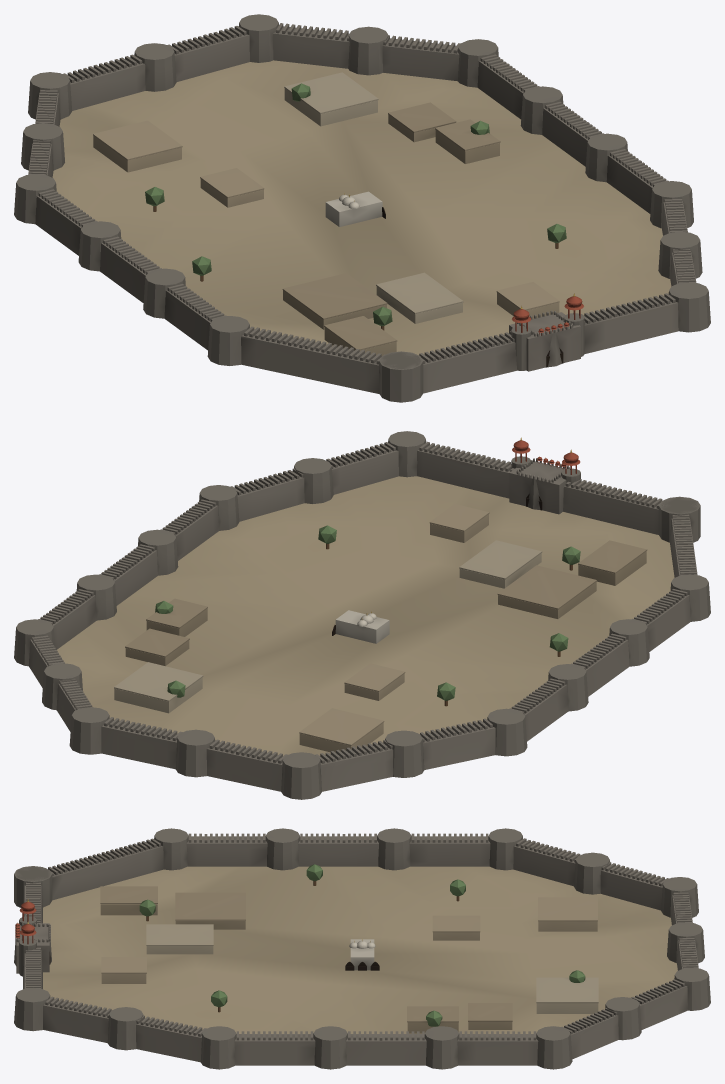
Rendered from salimgarh.glb.
The picture shows the model from 3 angles, top to bottom: view 1: azimuth 30°, elevation 25°; view 2: azimuth 150°, elevation 25°; view 3: azimuth 270°, elevation 25°; orthographic projection. The views are drawn at different scales.
Parts seen in each view (by area): view 1: p0_walls, p1_buildings, p2_trees; view 2: p0_walls, p1_buildings, p2_trees; view 3: p0_walls, p1_buildings, p2_trees.
Boxes of the visible parts, x1,y1,x2,y2 form: p0_walls: (14,14,710,402); p1_buildings: (93,72,584,371); p2_trees: (145,83,566,330); p0_walls: (14,431,710,799); p1_buildings: (114,437,647,752); p2_trees: (155,525,580,706); p0_walls: (14,828,710,1069); p1_buildings: (15,886,598,1033); p2_trees: (139,864,585,1026).
Size of the model in its own units: 212 by 24.49 by 292.
